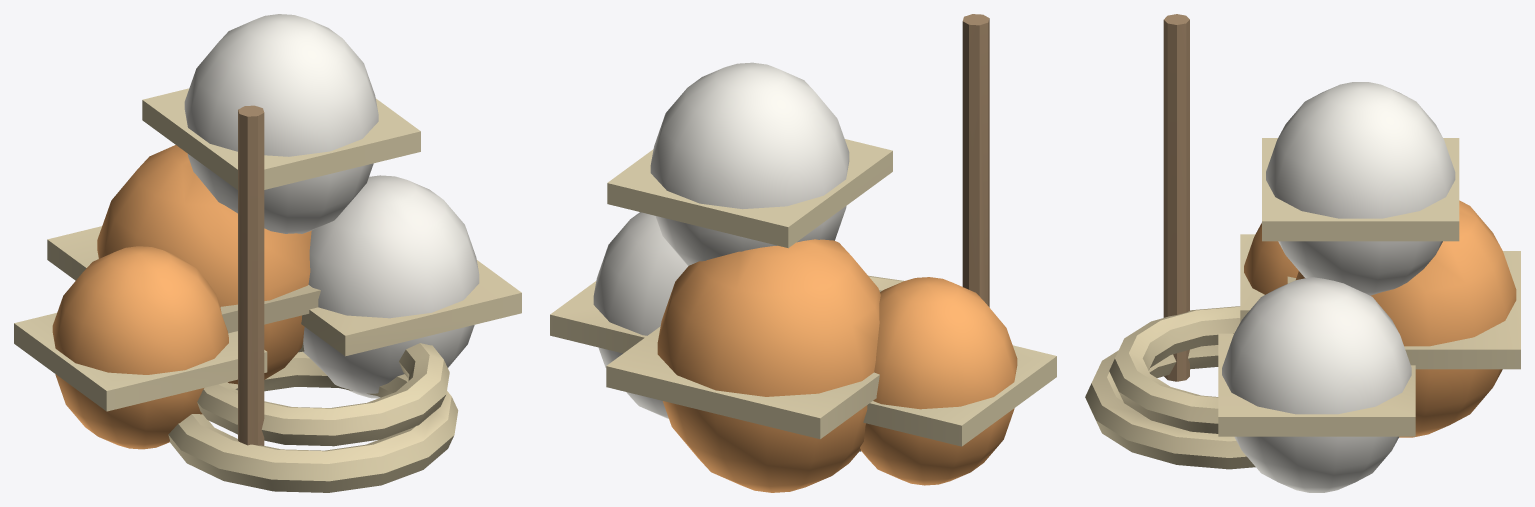
File: Kerb_Buoys.fbx
3 renders of one model, left to right at view 1: azimuth 30°, elevation 25°; view 2: azimuth 150°, elevation 25°; view 3: azimuth 270°, elevation 25°, orthographic. The views are drawn at different scales.
Visible parts, largest first — view 1: Kerb_Buoys; view 2: Kerb_Buoys; view 3: Kerb_Buoys.
Part boxes in pixels (x1,y1,x2,y2): Kerb_Buoys: (14, 14, 521, 492); Kerb_Buoys: (550, 14, 1056, 492); Kerb_Buoys: (1085, 14, 1520, 492).
Size of the model in its own units: 1.03 by 0.939 by 0.9965.
